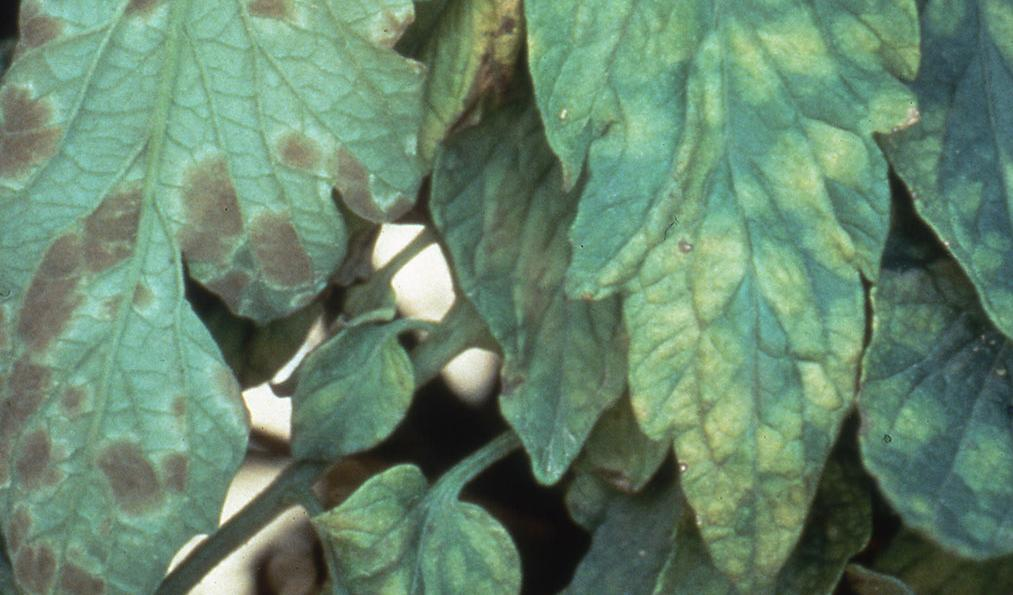Tomato mold leaf: (0, 0, 426, 595), (535, 0, 937, 595), (829, 0, 1013, 439), (288, 462, 531, 595)
